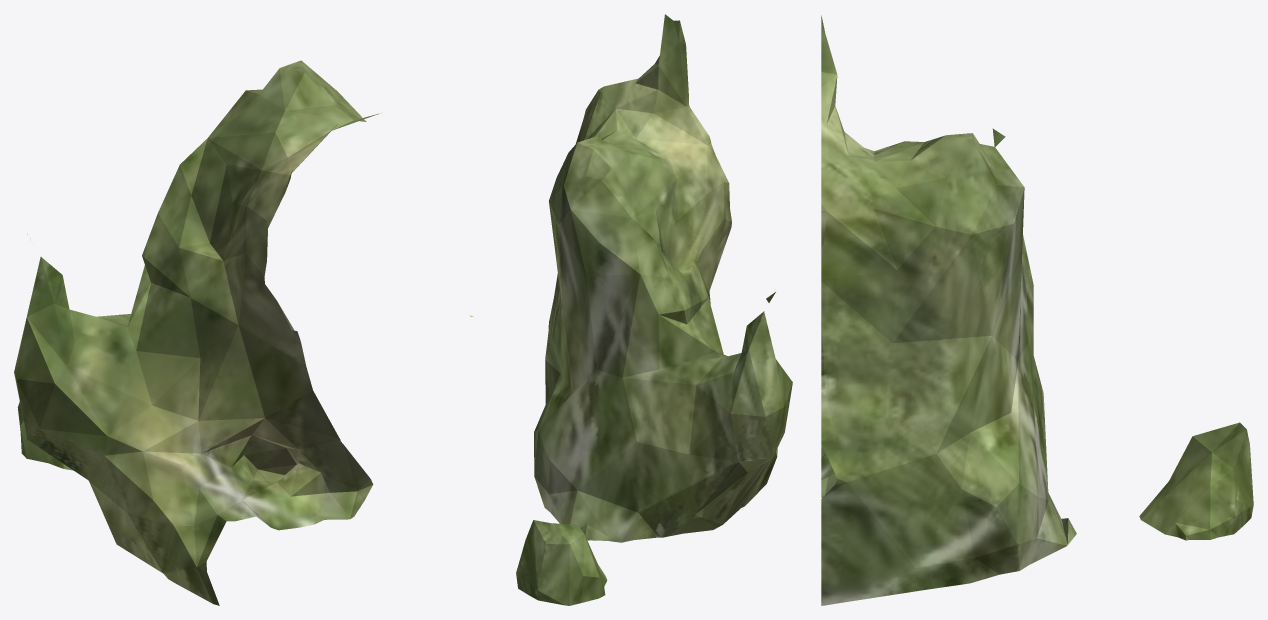
The picture shows the model from 3 angles, left to right: view 1: azimuth 30°, elevation 25°; view 2: azimuth 150°, elevation 25°; view 3: azimuth 270°, elevation 25°; orthographic projection. The views are drawn at different scales.
Size of the model in its own units: 1.34 by 1.89 by 1.4.
1 material, 1 textured.
